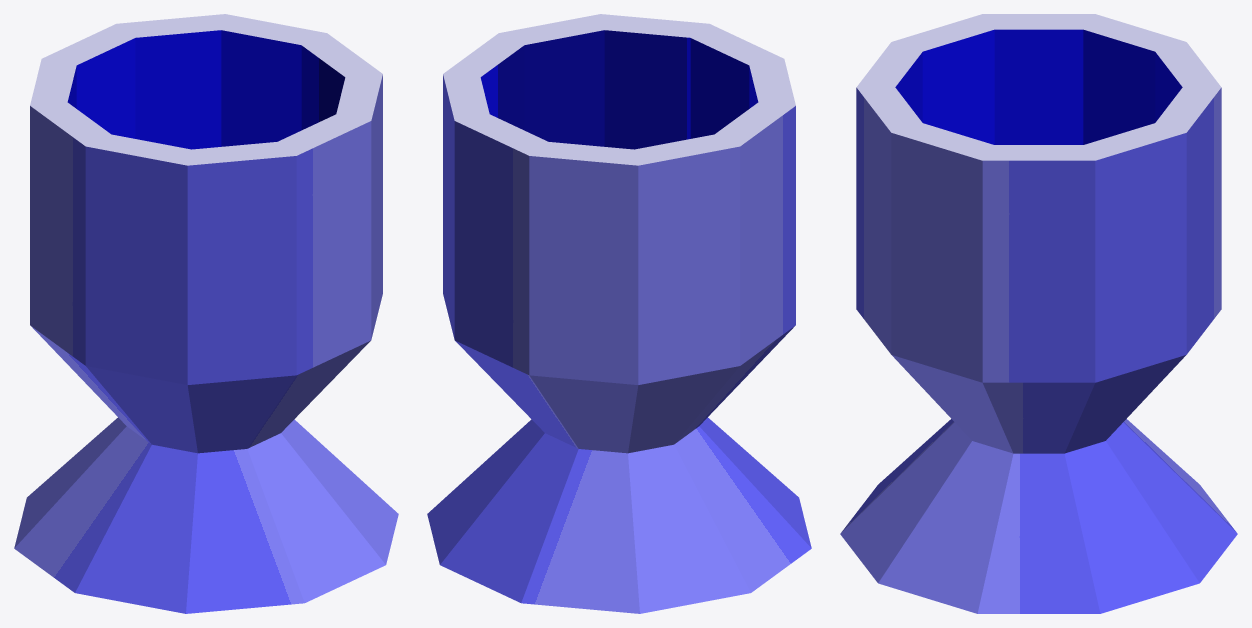
File: cup_628x01.gltf
The picture shows the model from 3 angles, left to right: view 1: azimuth 30°, elevation 25°; view 2: azimuth 150°, elevation 25°; view 3: azimuth 270°, elevation 25°; orthographic projection.
Visible parts, largest first — view 1: cup_628x01; view 2: cup_628x01; view 3: cup_628x01.
Part boxes in pixels (x1=…): cup_628x01: x1=14, y1=14, x2=398, y2=613; cup_628x01: x1=427, y1=14, x2=811, y2=613; cup_628x01: x1=840, y1=14, x2=1237, y2=613.
Size of the model in its own units: 0.3088 by 0.4023 by 0.3247.
1 material, 1 textured.
